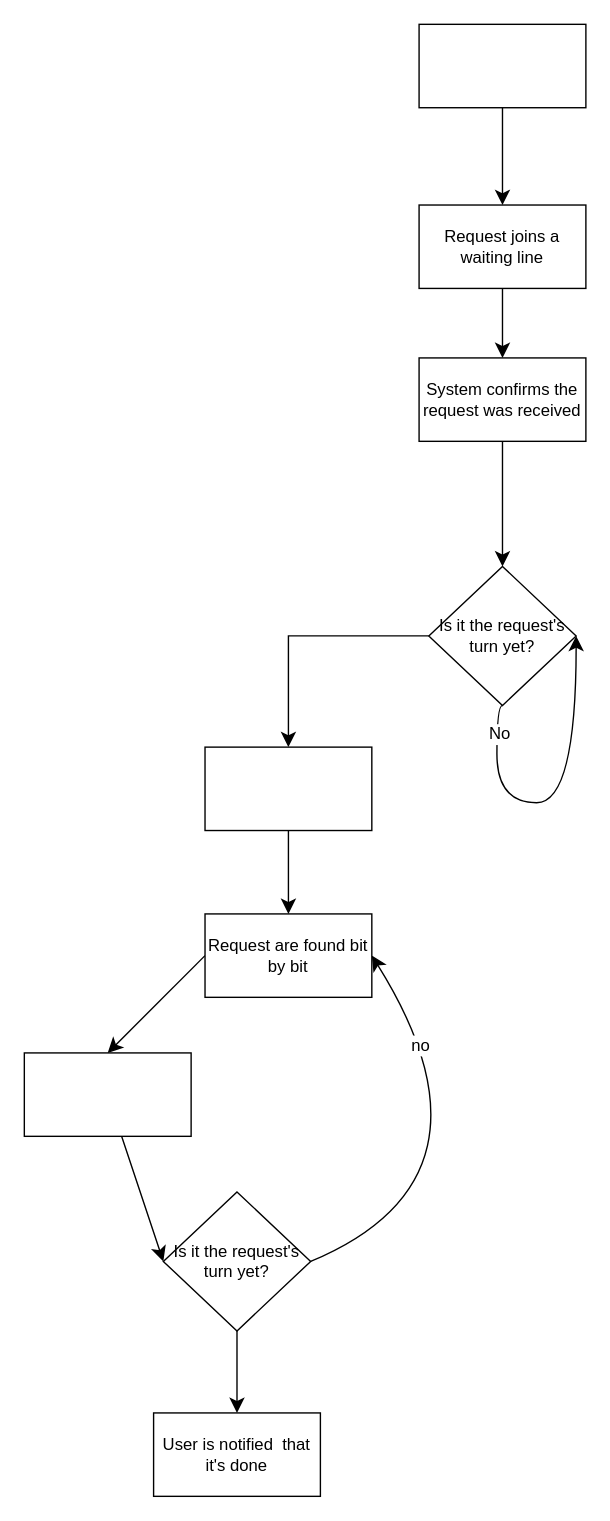
This 610x1521 diagram has some shape labels left out. Each missing label, with the centre of its shape:
"Request starts being handled" goes at point (288, 788).
"Results found so far are shown" goes at point (107, 1094).
"User makes the search" goes at point (502, 65).
